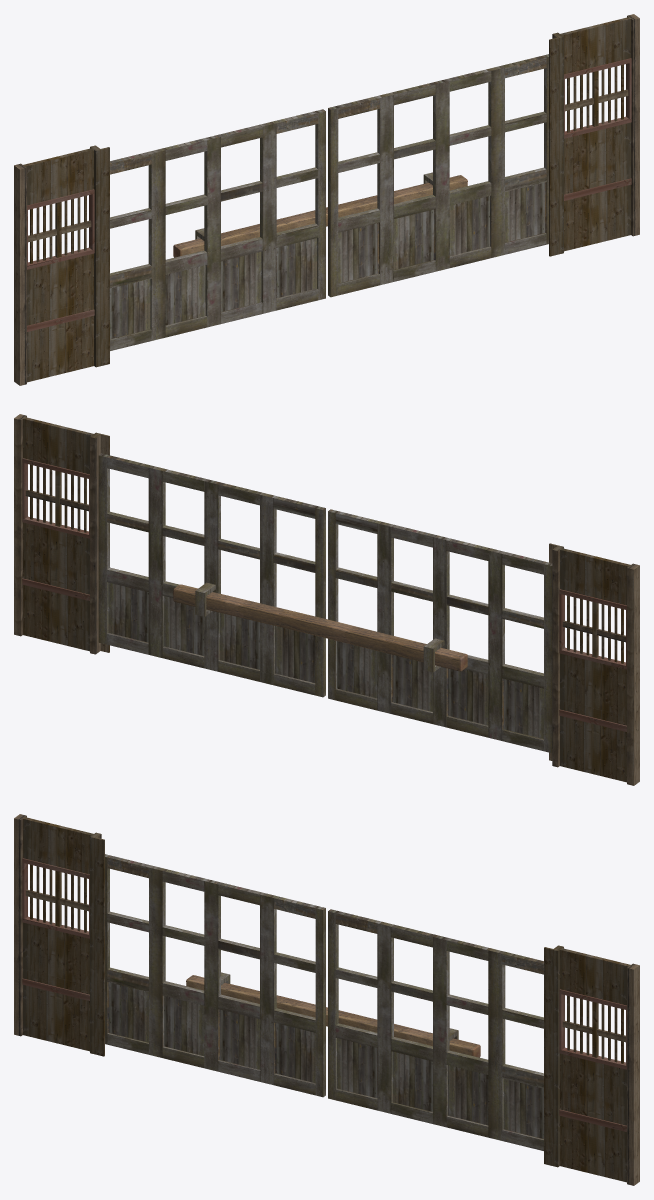
Rendered from MiddleDoor.fbx.
The picture shows the model from 3 angles, top to bottom: view 1: azimuth 30°, elevation 25°; view 2: azimuth 150°, elevation 25°; view 3: azimuth 330°, elevation 25°; orthographic projection.
Parts seen in each view (by area): view 1: MiddleDoorR, MiddleDoorL, MiddleWallL, MiddleWallR, MiddleWoodL, MiddleWoodR; view 2: MiddleDoorR, MiddleDoorL, MiddleWallL, MiddleWallR, MiddleWoodL, MiddleWoodR; view 3: MiddleDoorL, MiddleDoorR, MiddleWallR, MiddleWallL, MiddleWoodR, MiddleWoodL.
Boxes of the visible parts, x1,y1,x2,y2 form: MiddleDoorR: (328,54,548,297); MiddleDoorL: (110,109,325,350); MiddleWallL: (14,145,109,385); MiddleWallR: (549,14,639,256); MiddleWoodL: (173,210,315,257); MiddleWoodR: (326,175,467,226); MiddleDoorR: (98,453,325,697); MiddleDoorL: (328,509,552,752); MiddleWallL: (549,543,639,785); MiddleWallR: (14,414,109,654); MiddleWoodL: (317,618,467,671); MiddleWoodR: (173,584,323,635); MiddleDoorL: (105,854,325,1097); MiddleDoorR: (328,909,543,1150); MiddleWallR: (544,945,639,1185); MiddleWallL: (14,814,104,1056); MiddleWoodR: (338,1010,480,1057); MiddleWoodL: (186,975,327,1026).
Bounding box in the file's own units: 900 × 300 × 39.39.
